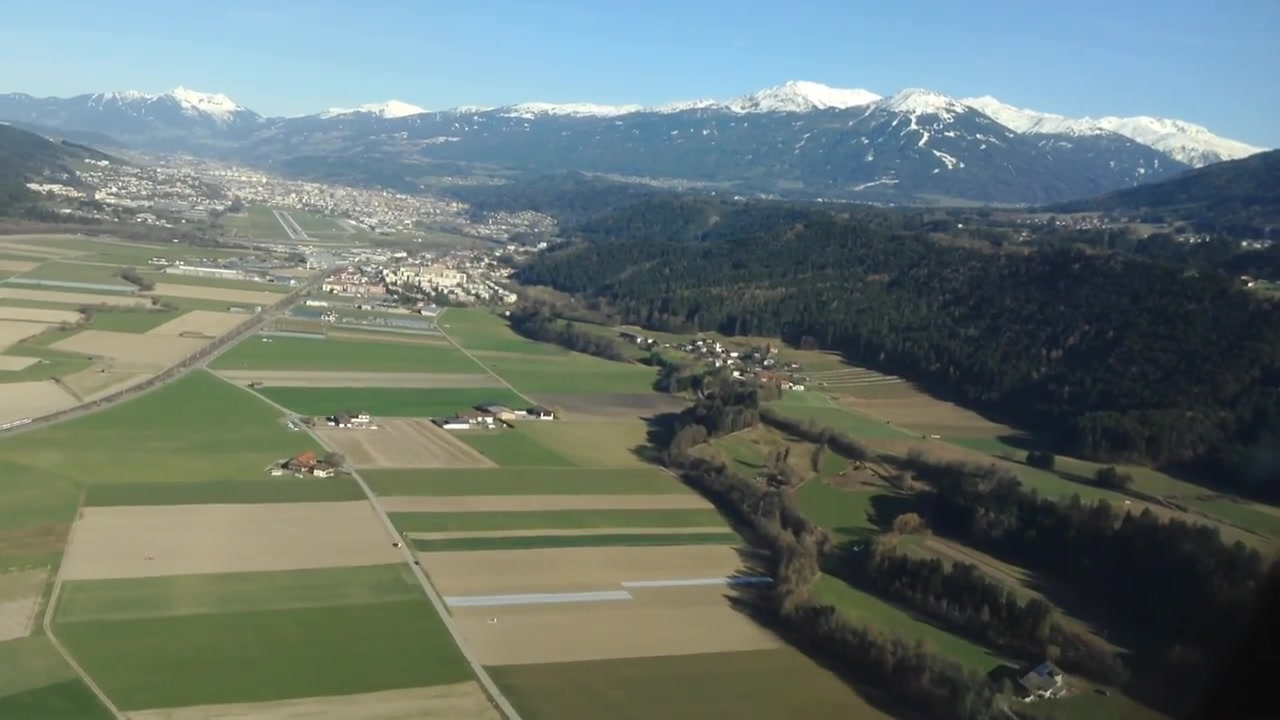runway: (272, 208, 310, 241)
